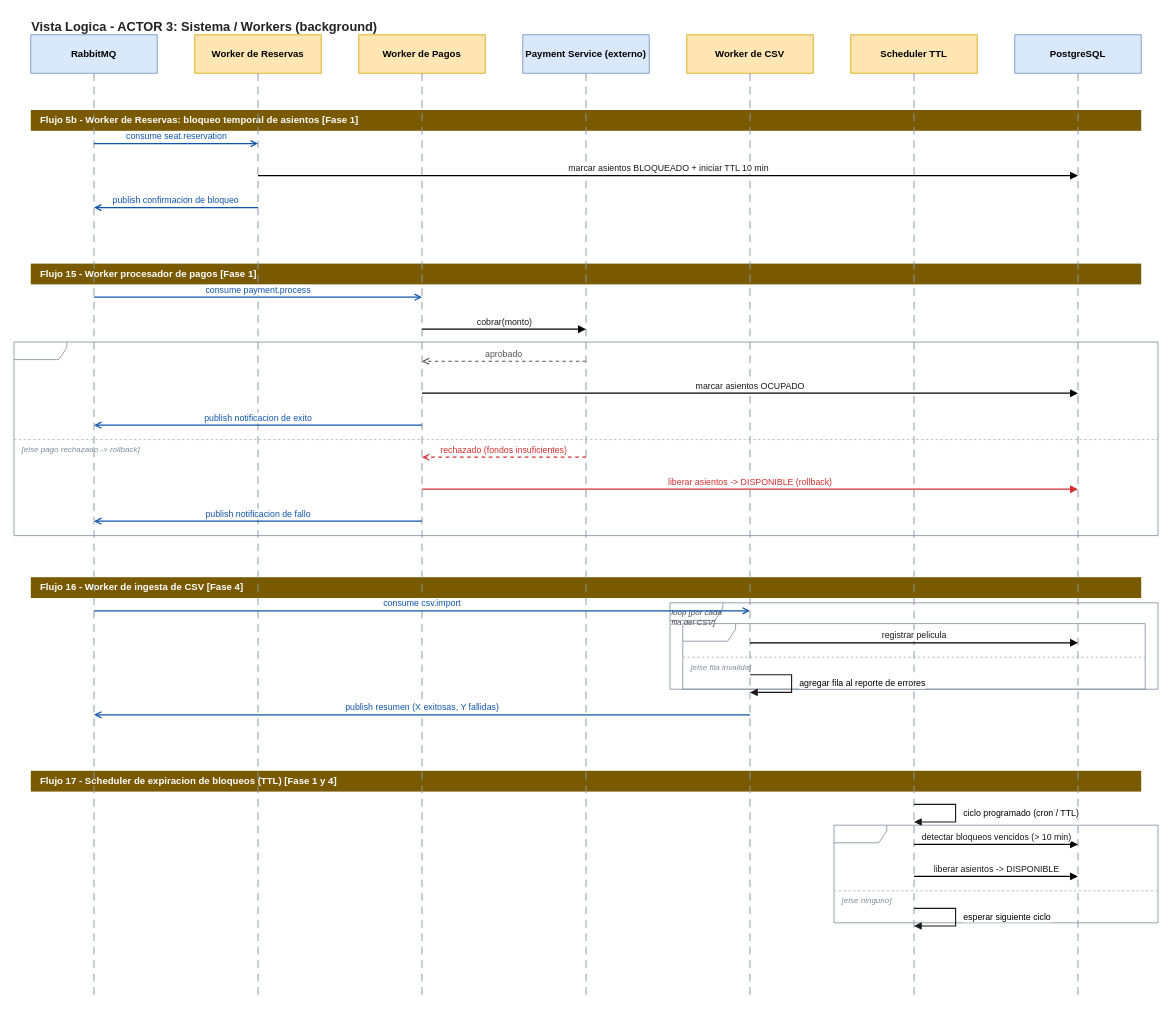
This 1173x1011 diagram has some shape labels left out. Here are the shapes that lost their labels. From the top down, the box of each, then its label:
(13, 341, 1158, 536): alt [pago aprobado]
(682, 623, 1145, 689): alt [fila valida]
(833, 824, 1158, 923): alt [hay bloqueos vencidos]
